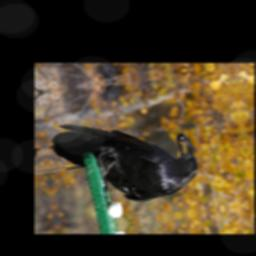Crow: (46, 105, 202, 215)
